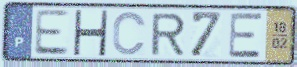7: (190, 9, 225, 59)
C: (111, 10, 148, 58)
E: (32, 8, 70, 57), (227, 11, 263, 59)
H: (70, 8, 110, 58)
R: (149, 12, 187, 57)
